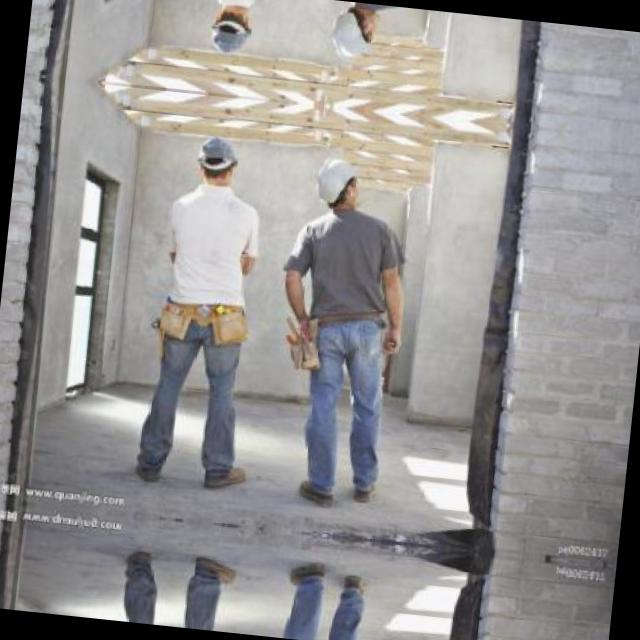helmet: (324, 0, 384, 61), (308, 154, 366, 217), (192, 131, 238, 180), (205, 9, 251, 58)
